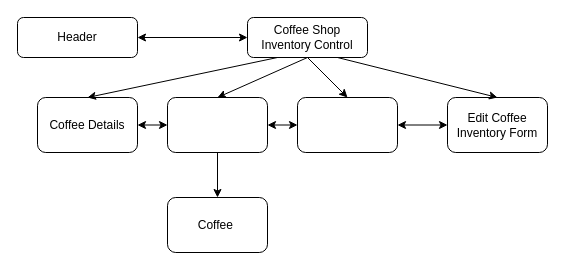
The diagram is 565 pixels wide and 270 high, and some of its shapes have lost their labels. The centre of each missing label's shape, as x and y in pixels:
"Coffee Menu" belongs at point (217, 124).
"New Coffee Intake Form" belongs at point (347, 124).
